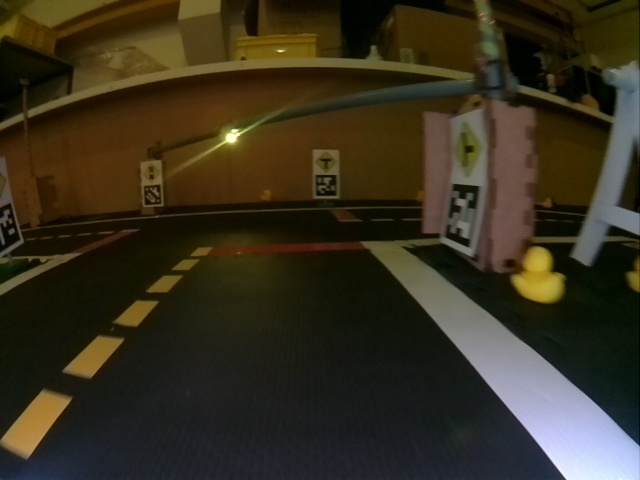Duckie: (512, 247, 566, 302), (626, 255, 639, 292), (262, 191, 271, 200)
Intersection sign: (453, 119, 484, 180), (314, 150, 338, 172)
QR code: (444, 183, 482, 248), (0, 201, 22, 255), (316, 175, 337, 198), (143, 185, 162, 206)
Signal sign: (142, 162, 161, 183)
Traffic light: (225, 126, 239, 144)
